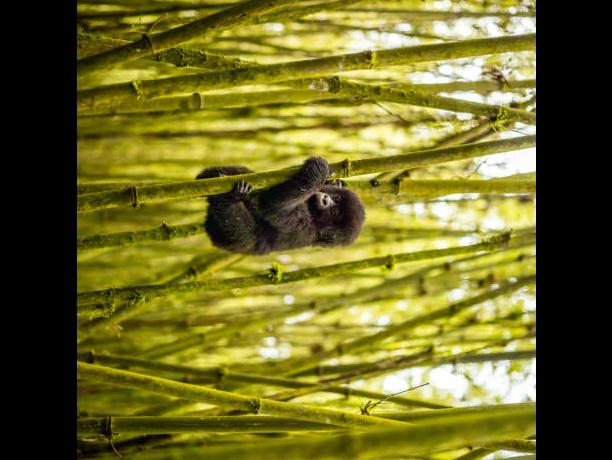goriile_montagne: (195, 159, 371, 285)
